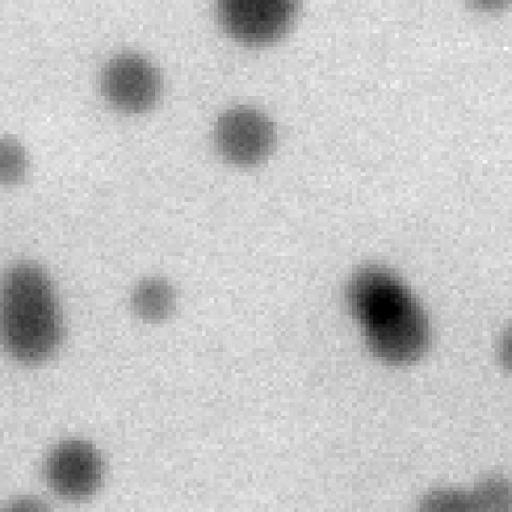Nanoparticles: (362, 294, 438, 370), (209, 98, 281, 174), (338, 256, 410, 329), (213, 0, 304, 56), (41, 434, 119, 499), (0, 293, 67, 367), (98, 50, 166, 112), (0, 256, 61, 318), (413, 477, 499, 512), (127, 273, 174, 323), (0, 128, 33, 189)
